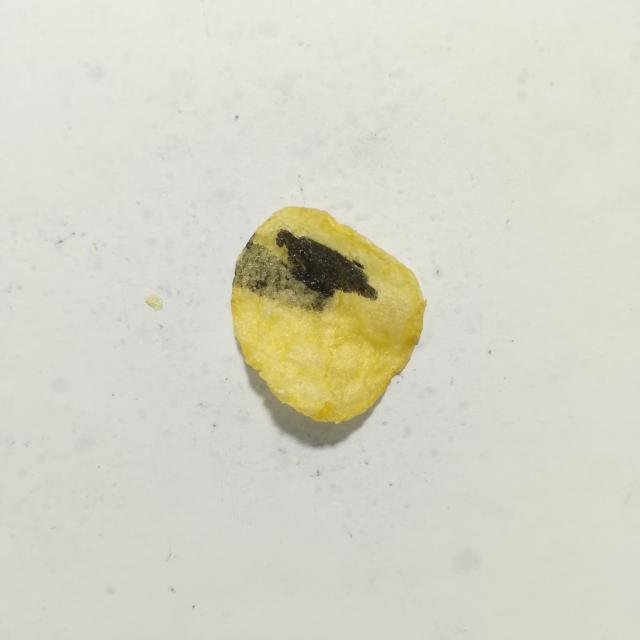chip: (231, 207, 426, 422)
damaged: (276, 229, 377, 299)
semi-damaged: (234, 239, 331, 314)
